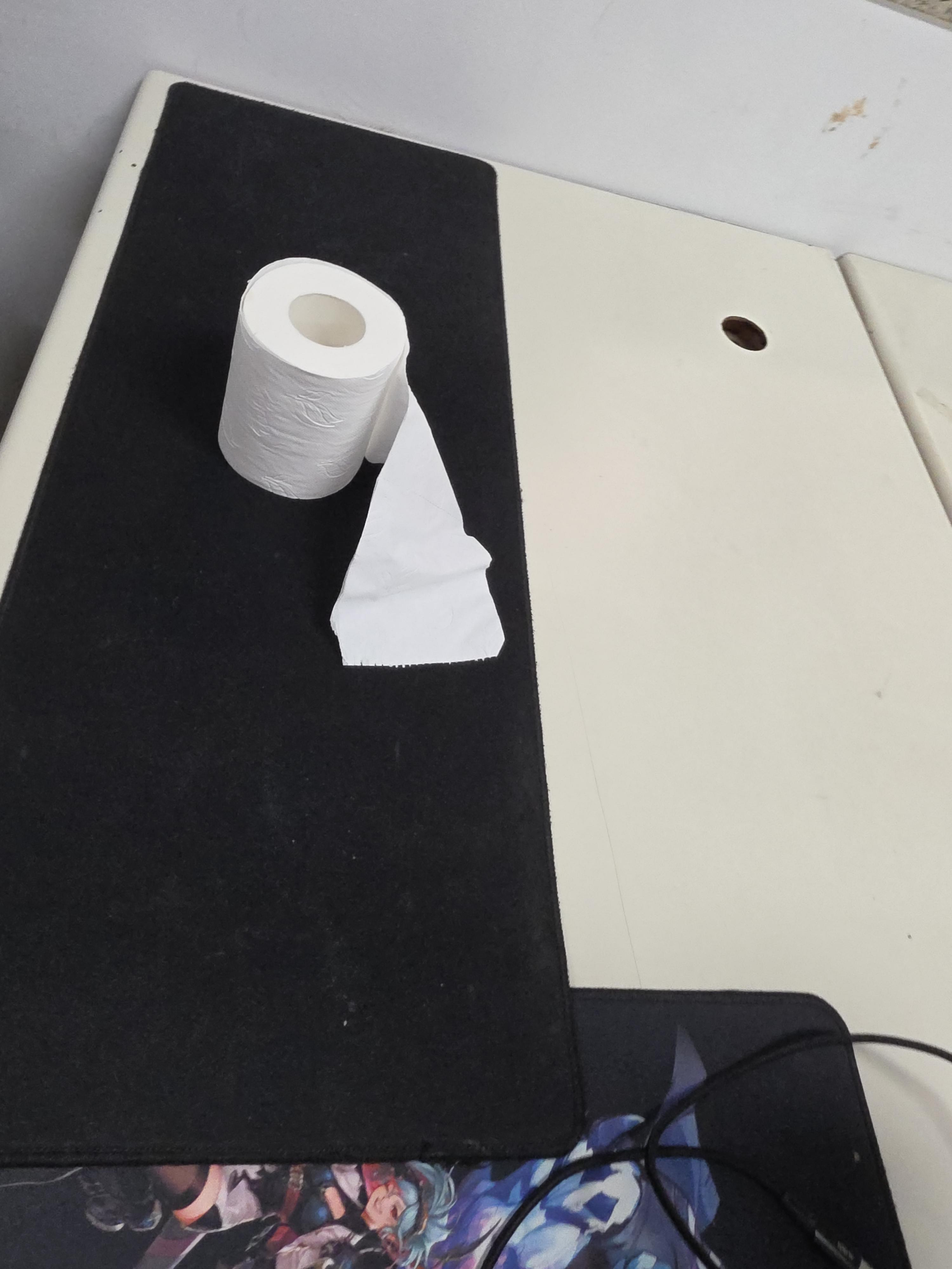tissue: (217, 257, 506, 668)
